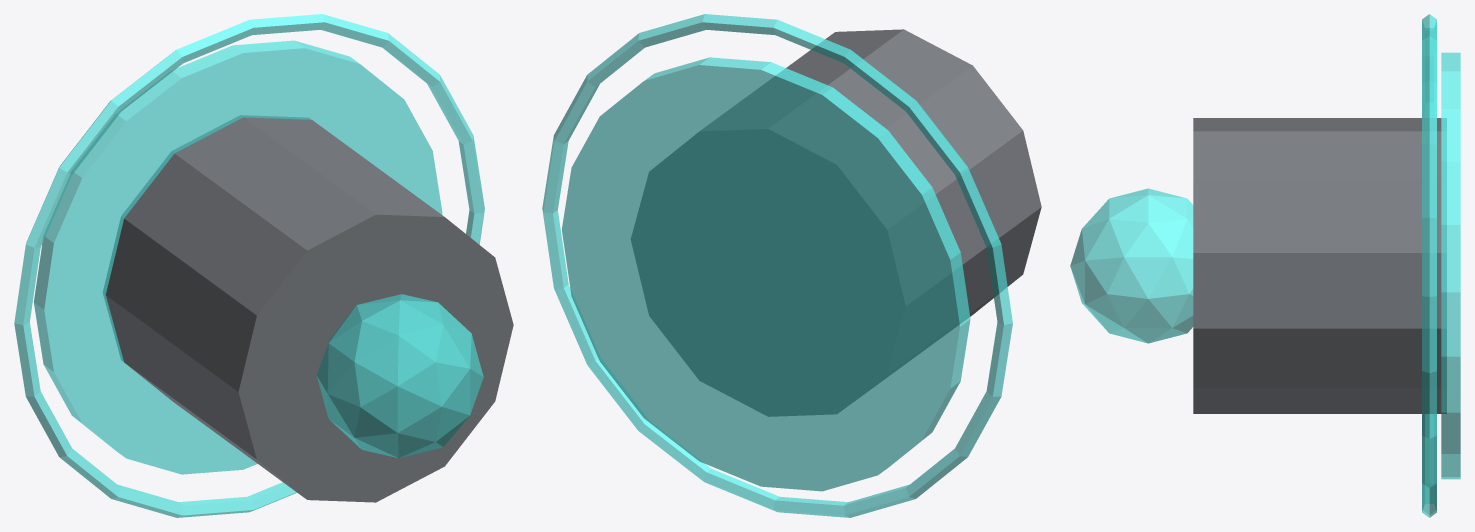
Rendered from 06_waypoint_compass.glb.
3 renders of one model, left to right at view 1: azimuth 30°, elevation 25°; view 2: azimuth 150°, elevation 25°; view 3: azimuth 270°, elevation 25°, orthographic. The views are drawn at different scales.
Visible parts, largest first — view 1: station_body, base_disc, core, base_ring; view 2: base_disc, station_body, base_ring; view 3: station_body, core, base_disc, base_ring.
Boxes of the visible parts, x1=… form: station_body: x1=103, y1=115, x2=513, y2=502; base_disc: x1=33, y1=40, x2=442, y2=474; core: x1=316, y1=294, x2=483, y2=458; base_ring: x1=14, y1=14, x2=484, y2=517; base_disc: x1=561, y1=57, x2=970, y2=491; station_body: x1=631, y1=29, x2=1041, y2=416; base_ring: x1=542, y1=14, x2=1012, y2=517; station_body: x1=1193, y1=118, x2=1446, y2=413; core: x1=1070, y1=188, x2=1193, y2=343; base_disc: x1=1441, y1=52, x2=1460, y2=479; base_ring: x1=1422, y1=14, x2=1436, y2=517.
Bounding box in the file's own units: 1.3 × 1.3 × 1.
